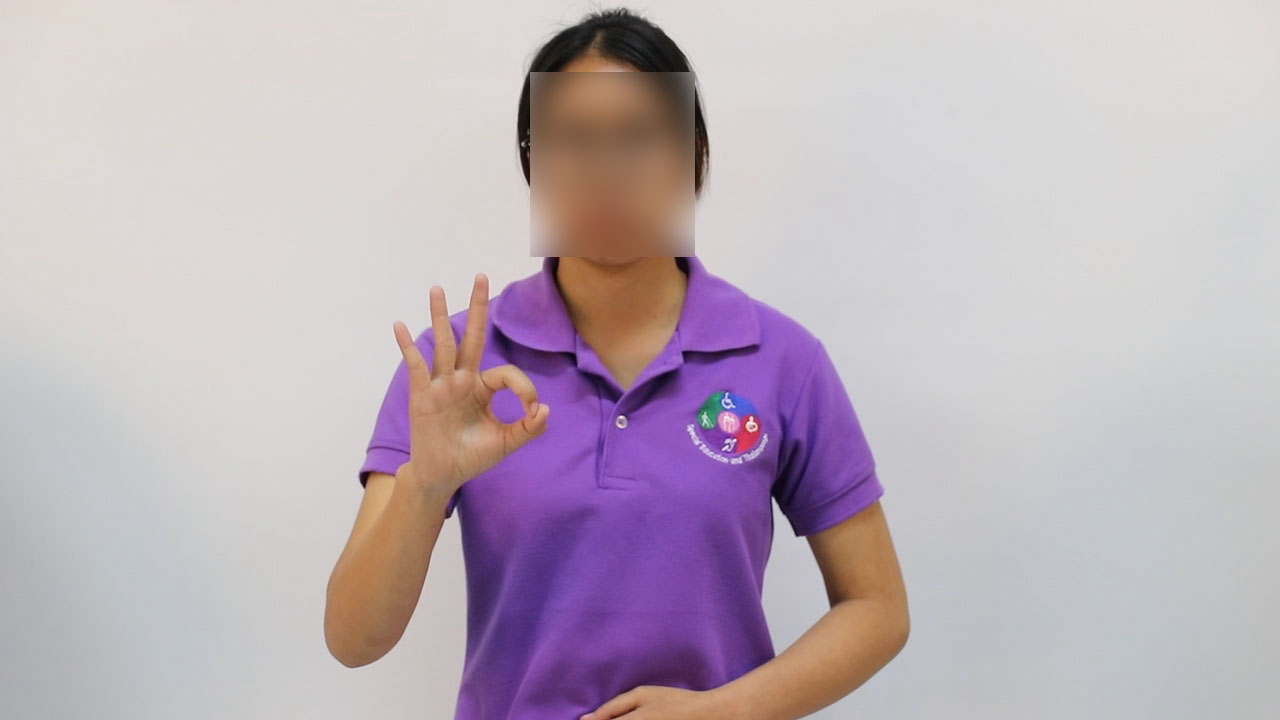for: (379, 267, 555, 497)
